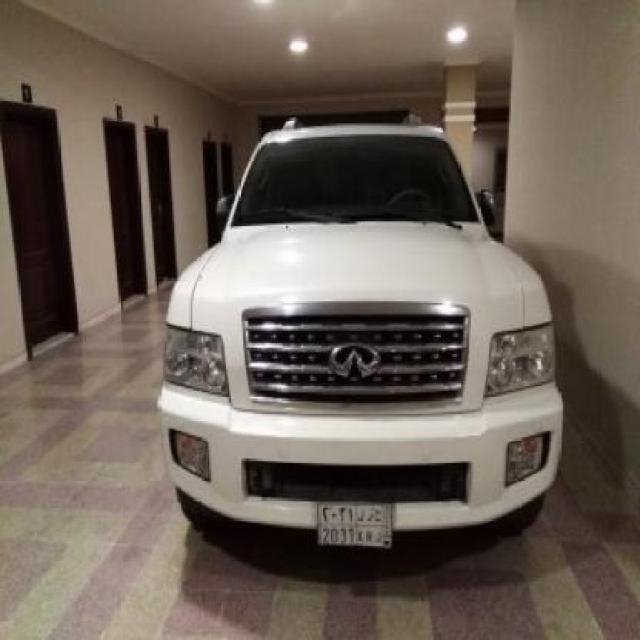license_plate: (316, 498, 396, 551)
